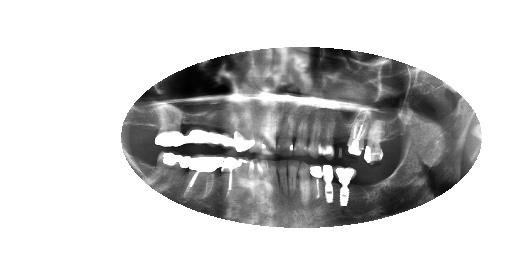i10healthy: (249, 157, 264, 207)
i11healthy: (235, 156, 252, 204)
i12healthy: (218, 154, 242, 203)
i13healthy: (200, 153, 220, 203)
i14healthy: (180, 148, 203, 201)
i15healthy: (143, 143, 189, 195)
i2loss: (347, 165, 369, 209)
i3loss: (331, 162, 358, 210)
i4loss: (321, 160, 336, 208)
i5healthy: (306, 161, 324, 204)
i6healthy: (293, 155, 311, 206)
i7healthy: (283, 154, 300, 202)
i8healthy: (276, 154, 289, 199)
i9healthy: (263, 154, 279, 202)
u10healthy: (245, 106, 263, 155)
u11healthy: (228, 101, 256, 154)
u12loss: (217, 95, 235, 154)
u13loss: (204, 95, 221, 149)
u14loss: (184, 97, 207, 148)
u15healthy: (149, 94, 188, 150)
u2healthy: (361, 112, 386, 166)
u3healthy: (346, 108, 367, 159)
u4loss: (331, 114, 353, 160)
u5healthy: (316, 110, 341, 160)
u6healthy: (306, 111, 322, 160)
u7healthy: (290, 109, 310, 156)
u8healthy: (272, 107, 297, 158)
u9healthy: (258, 104, 280, 157)
